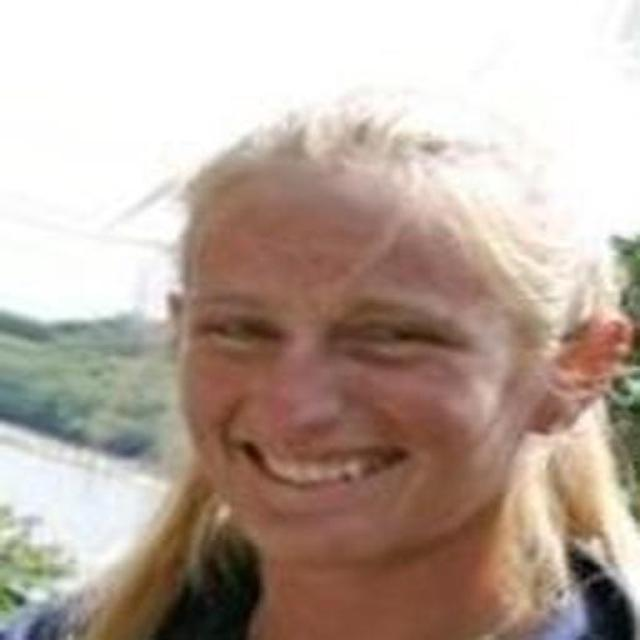bareface: (176, 160, 542, 564)
